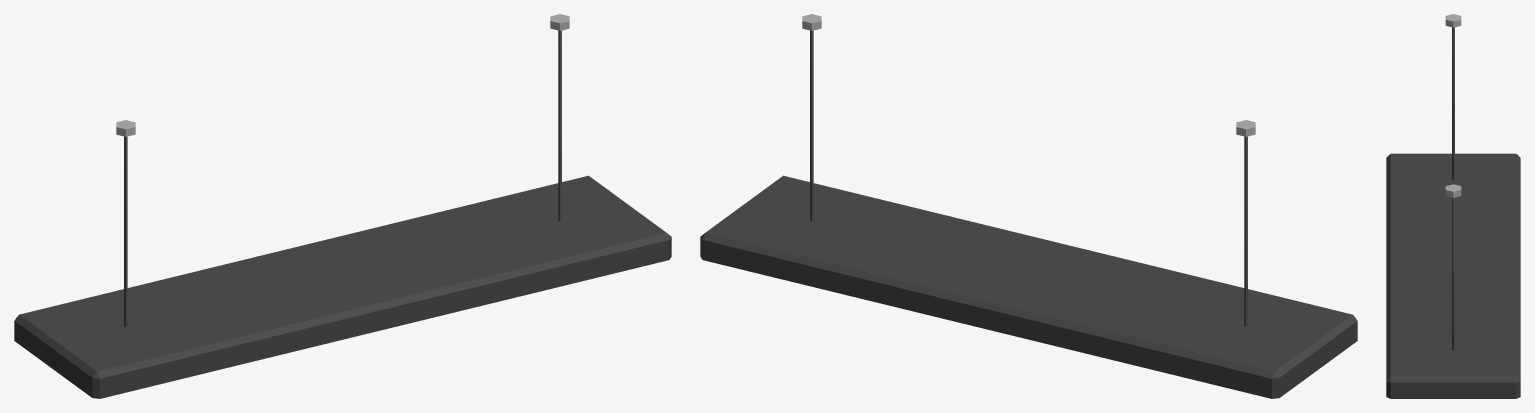
The model's file is light_ceiling_01.glb.
3 renders of one model, left to right at view 1: azimuth 30°, elevation 25°; view 2: azimuth 150°, elevation 25°; view 3: azimuth 270°, elevation 25°, orthographic. The views are drawn at different scales.
Visible parts, largest first — view 1: light_ceiling_01_mesh; view 2: light_ceiling_01_mesh; view 3: light_ceiling_01_mesh.
Part boxes in pixels (left/top/right/bottom): light_ceiling_01_mesh: left=14, top=14, right=671, bottom=398; light_ceiling_01_mesh: left=700, top=14, right=1357, bottom=398; light_ceiling_01_mesh: left=1386, top=14, right=1520, bottom=398.
Bounding box in the file's own units: 1.2 × 0.458 × 0.3.
2 materials, 2 textured.
